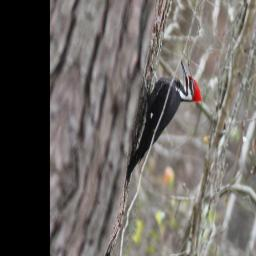Woodpecker: (115, 38, 209, 221)
